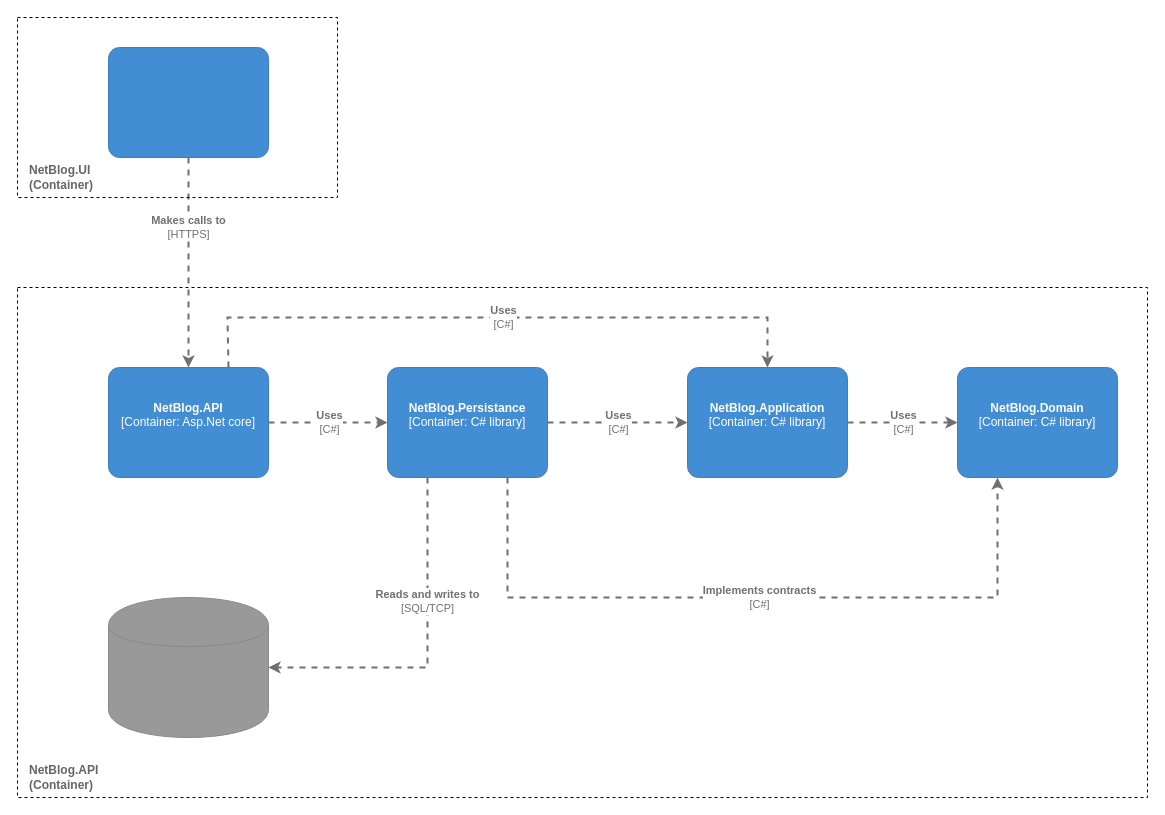
Image size: 1165x815. Some labels were removed from this diagram. Each missing label, with the box of its shape:
Database [Container: T-SQL]: (108, 596, 268, 738)
SPA [Container: Angular]: (108, 46, 268, 158)
